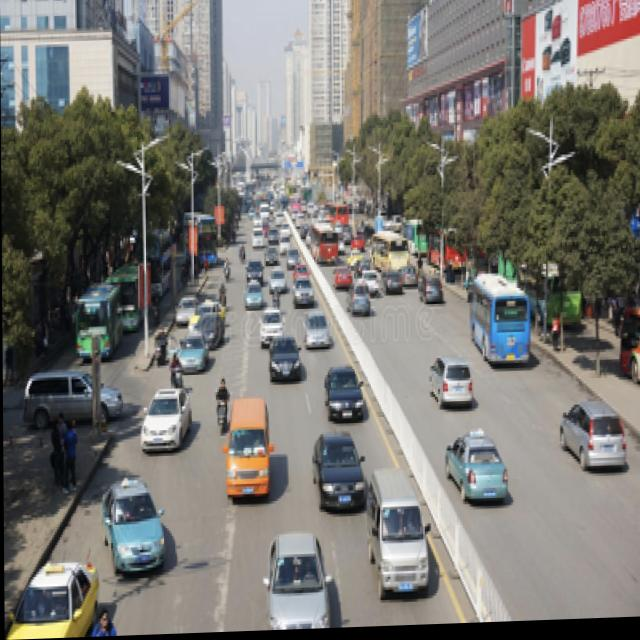licence: (336, 493, 350, 506)
